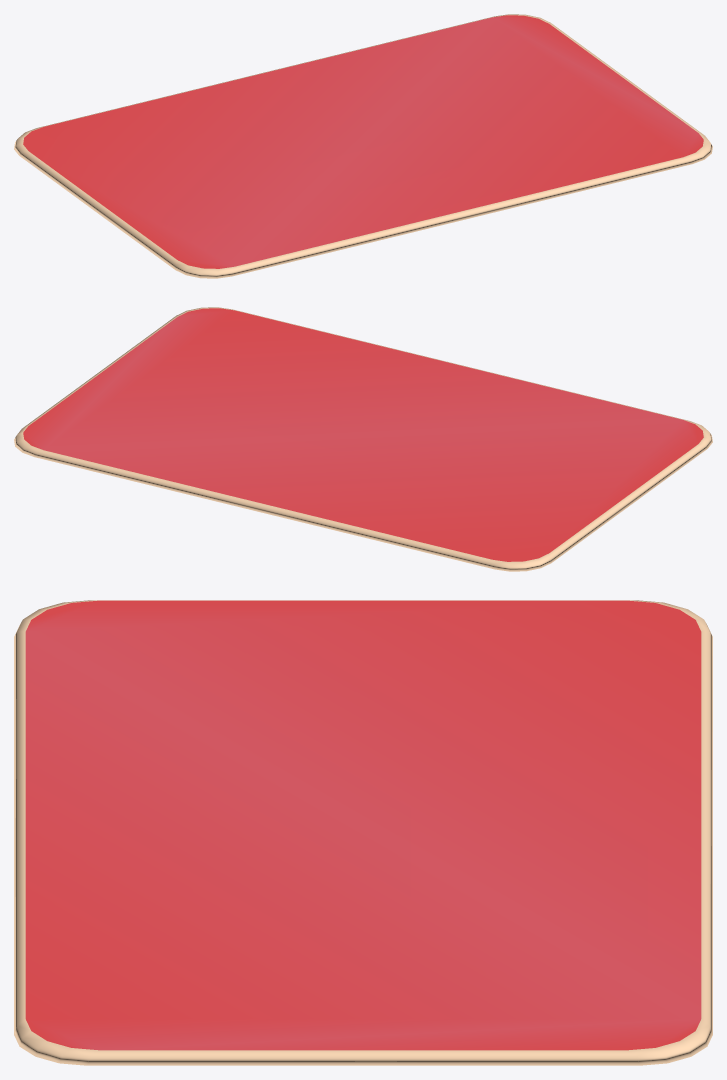
Rendered from Carpet_002.glb.
3 renders of one model, top to bottom at view 1: azimuth 30°, elevation 25°; view 2: azimuth 150°, elevation 25°; view 3: azimuth 270°, elevation 25°, orthographic. The views are drawn at different scales.
Parts seen in each view (by area): view 1: Carpet_002; view 2: Carpet_002; view 3: Carpet_002.
Boxes of the visible parts, x1,y1,x2,y2 form: Carpet_002: [14, 14, 712, 278]; Carpet_002: [14, 307, 712, 571]; Carpet_002: [14, 600, 712, 1065].
Bounding box in the file's own units: 2.8 × 0.03 × 1.8.
1 material, 1 textured.
